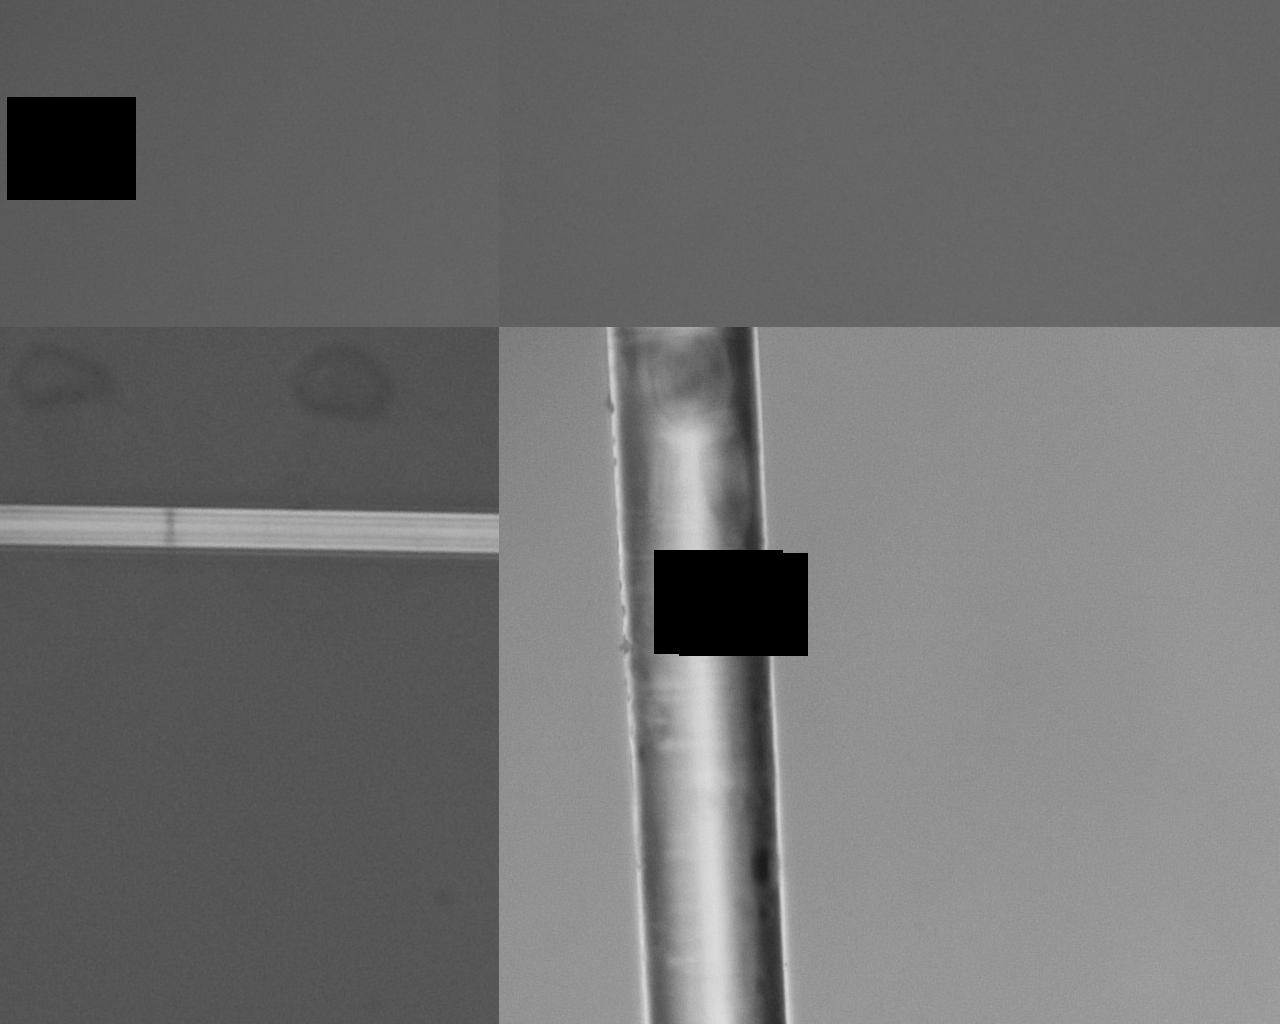fiber: (127, 406, 1151, 562)
